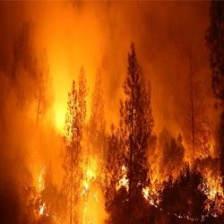fire: (23, 73, 113, 224)
